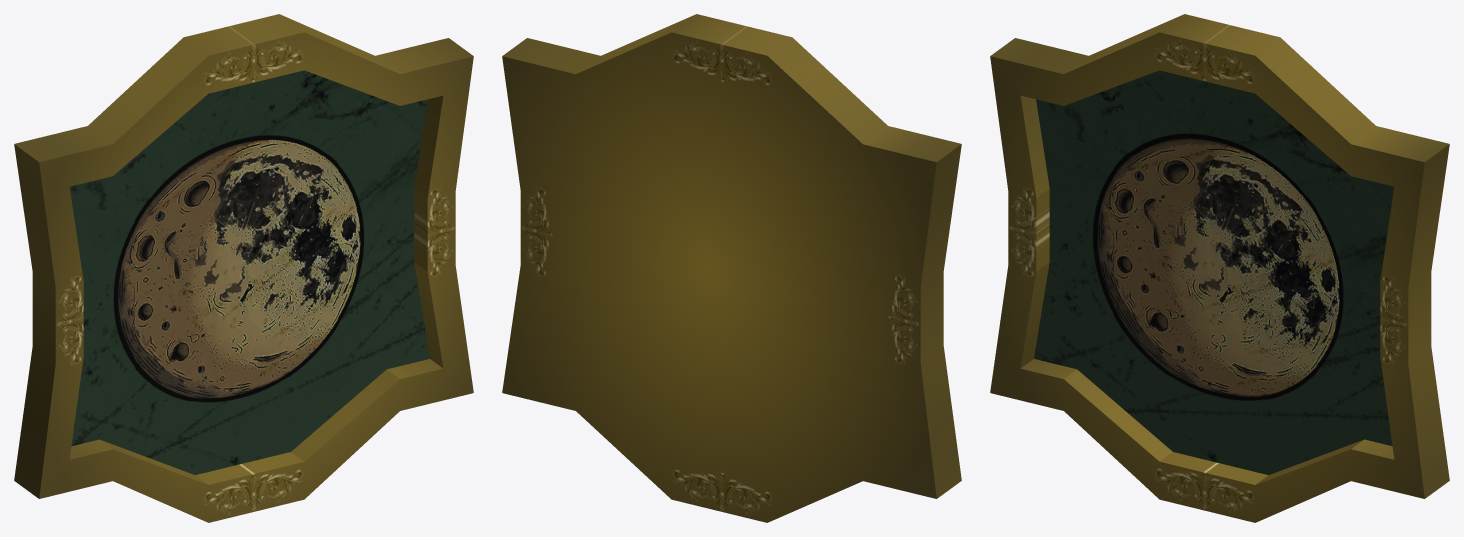
Rendered from MoonPainting.fbx.
3 views of the same model, side by side, from view 1: azimuth 30°, elevation 25°; view 2: azimuth 150°, elevation 25°; view 3: azimuth 330°, elevation 25° (orthographic).
Visible parts, largest first — view 1: Box025; view 2: Box025; view 3: Box025.
Part boxes in pixels (x1,y1,x2,y2): Box025: (14,14,473,522); Box025: (502,14,961,522); Box025: (990,14,1449,522).
Size of the model in its own units: 4 by 0.4 by 4.11.
